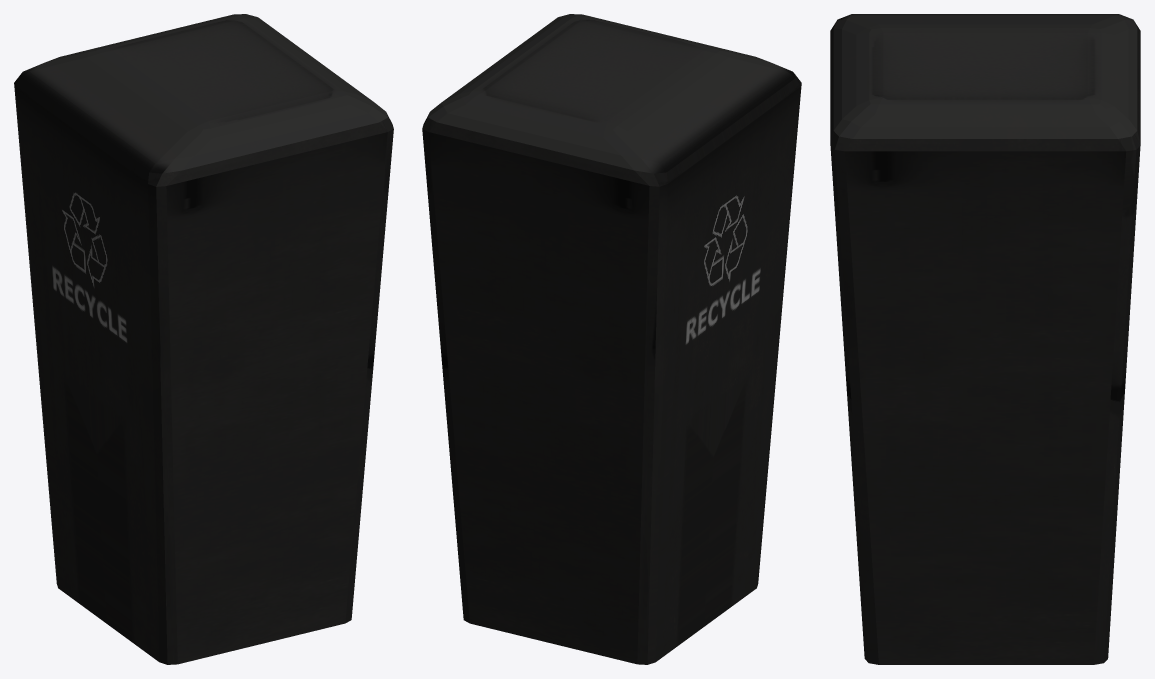
File: waste-bin-120l-black-lid_LOD1.gltf
The picture shows the model from 3 angles, left to right: view 1: azimuth 30°, elevation 25°; view 2: azimuth 150°, elevation 25°; view 3: azimuth 270°, elevation 25°; orthographic projection. The views are drawn at different scales.
Visible parts, largest first — view 1: Cube; view 2: Cube; view 3: Cube.
Part boxes in pixels (x1,y1,x2,y2): Cube: (14, 14, 393, 664); Cube: (422, 14, 801, 664); Cube: (830, 14, 1140, 664).
Bounding box in the file's own units: 0.3854 × 0.7938 × 0.3987.
1 material, 1 textured.
